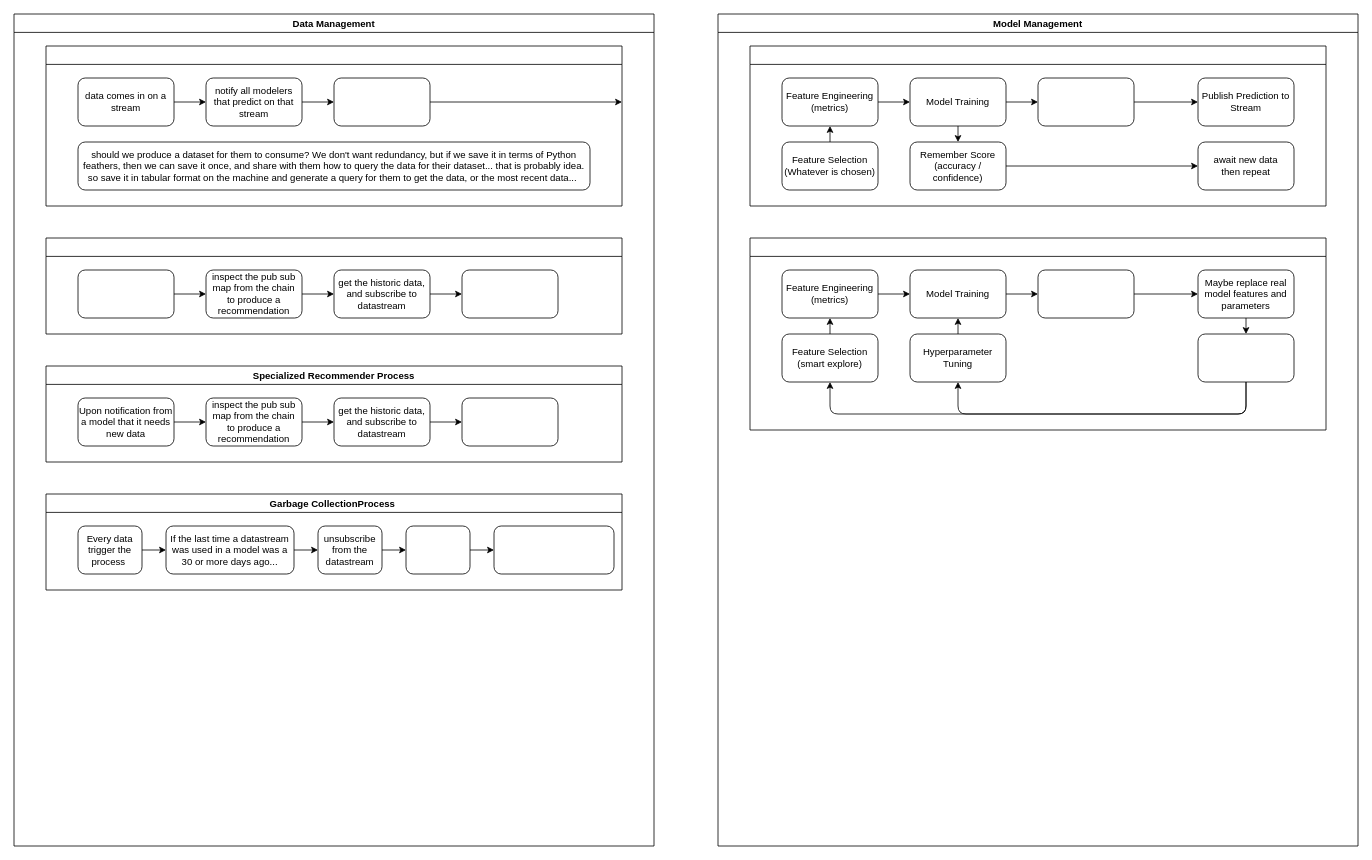
The diagram is 1372 pixels wide and 860 high, and some of its shapes have lost their labels. Here are the shapes that lost their labels. From the top down, the box of each, then its label:
(333, 77, 430, 126): notify all modelers that use that stream to predict another
(1037, 77, 1134, 126): Predict
(45, 45, 622, 206): Merge Process
(749, 45, 1326, 206): Model Creation
(77, 269, 174, 318): for all models
(45, 237, 622, 334): Recommender Process
(461, 269, 558, 318): notify all modelers that a new dataset is available
(1037, 269, 1134, 318): compare score with Real Model score
(749, 237, 1326, 430): Test Model Creation
(1197, 333, 1294, 382): repeat
(461, 397, 558, 446): notify that model that a new dataset is available
(405, 525, 470, 574): purge historic dataset
(493, 525, 614, 574): notify all models that the datastream is no longer available
